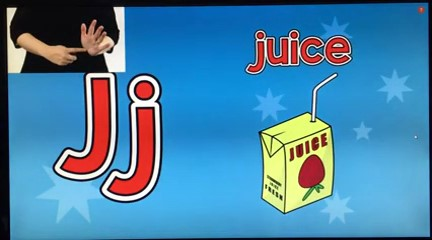J: (36, 15, 116, 69)
